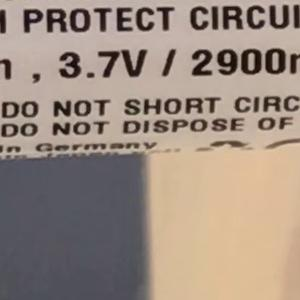3.7V: (49, 39, 156, 89)
